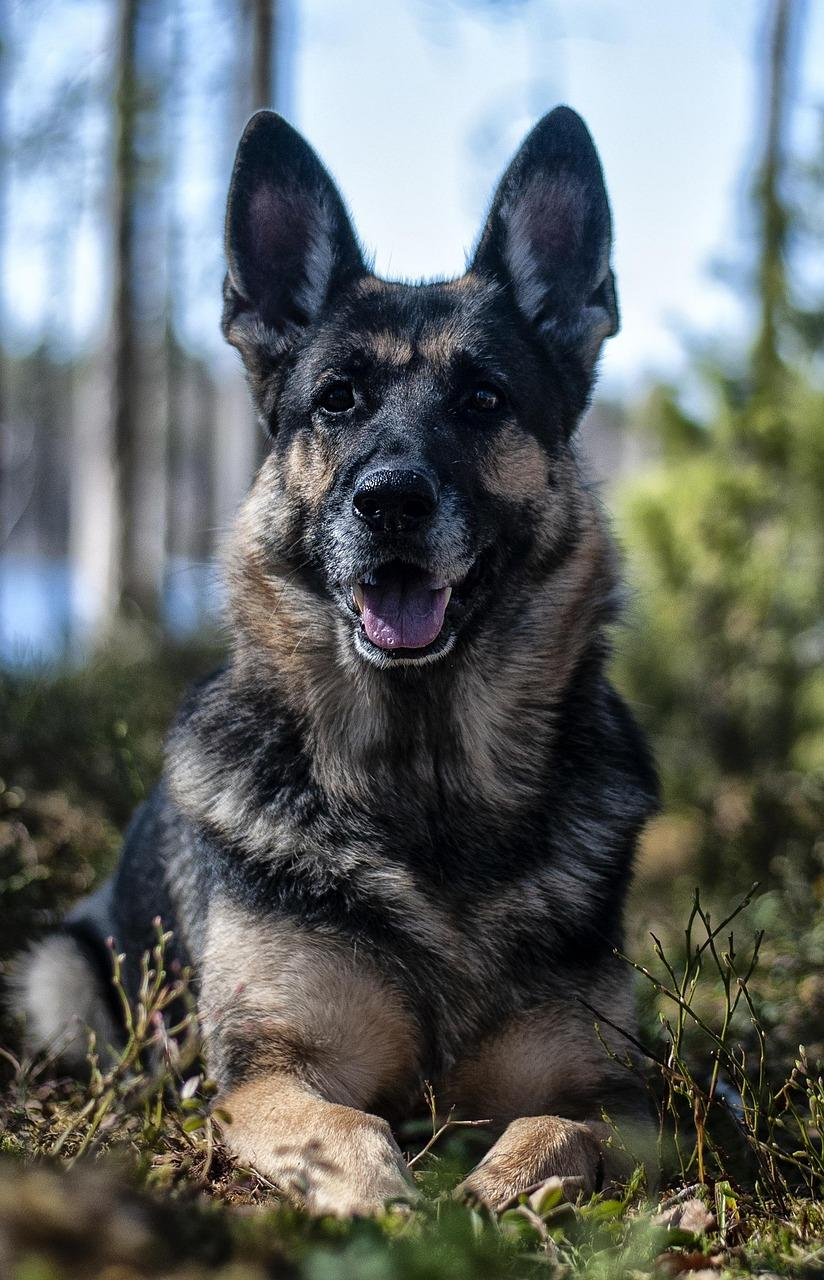german_shepherd: (224, 136, 625, 687)
